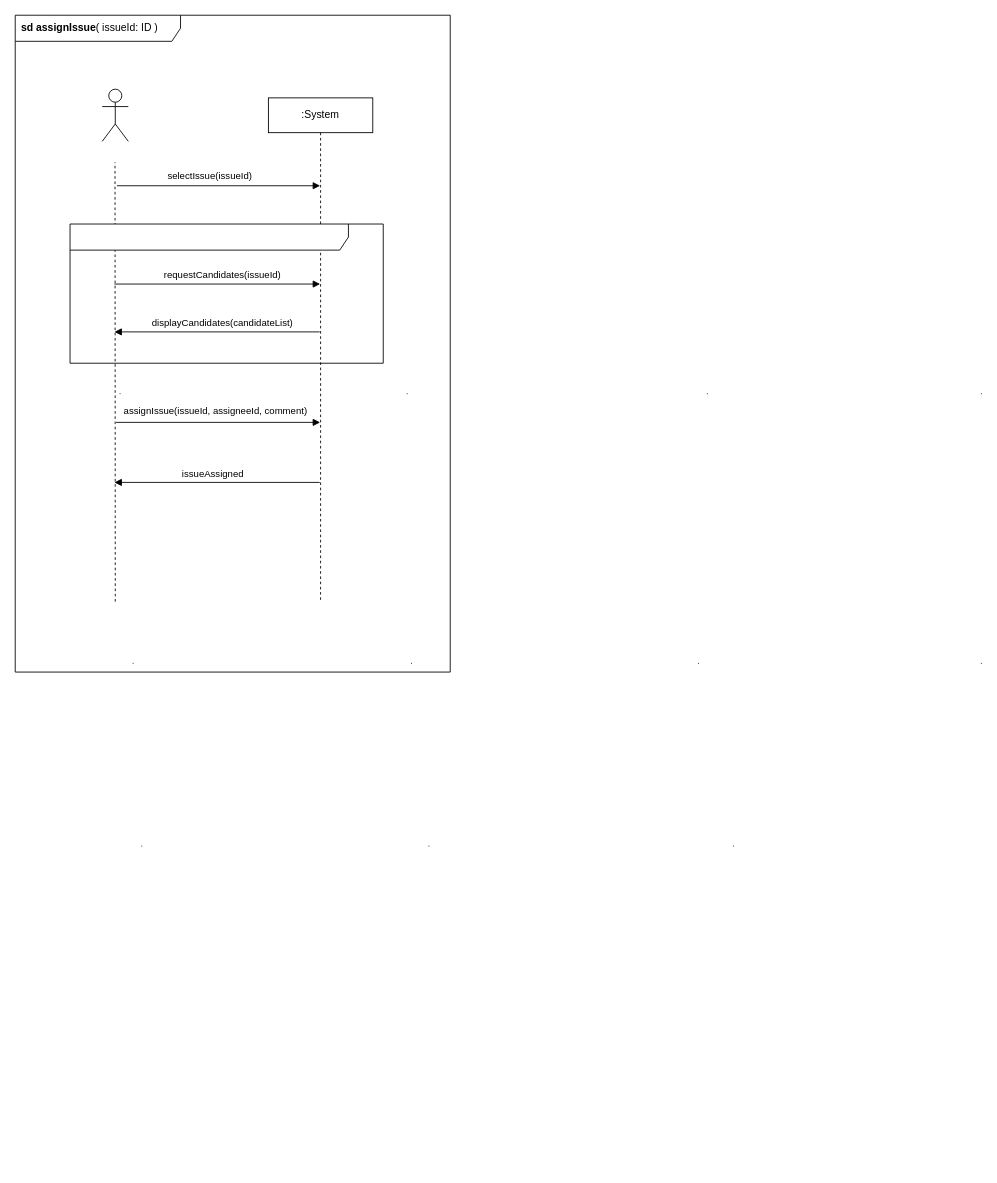
The diagram is 997 pixels wide and 1183 high, and some of its shapes have lost their labels. The box of each missing label's shape, as (x1, y1, x2, y2) in pixels:
:PL: (101, 88, 128, 141)
opt [담당자 추천이 필요하면]: (69, 223, 383, 363)
